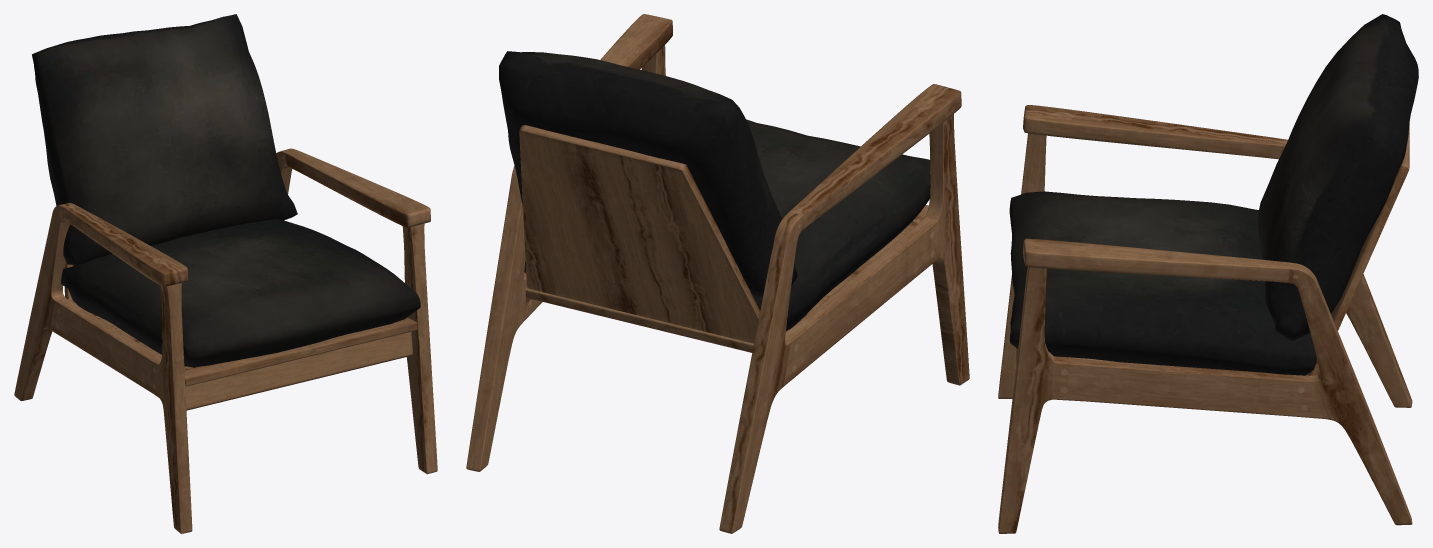
Rendered from modern_arm_chair_01.glb.
The picture shows the model from 3 angles, left to right: view 1: azimuth 30°, elevation 25°; view 2: azimuth 150°, elevation 25°; view 3: azimuth 270°, elevation 25°; orthographic projection. The views are drawn at different scales.
Parts seen in each view (by area): view 1: modern_arm_chair_01; view 2: modern_arm_chair_01; view 3: modern_arm_chair_01.
Boxes of the visible parts, bbox=[...] form: modern_arm_chair_01: bbox=[14, 14, 437, 533]; modern_arm_chair_01: bbox=[466, 14, 969, 533]; modern_arm_chair_01: bbox=[998, 14, 1418, 533].
Size of the model in its own units: 0.8203 by 1.02 by 0.9866.
2 materials, 2 textured.
